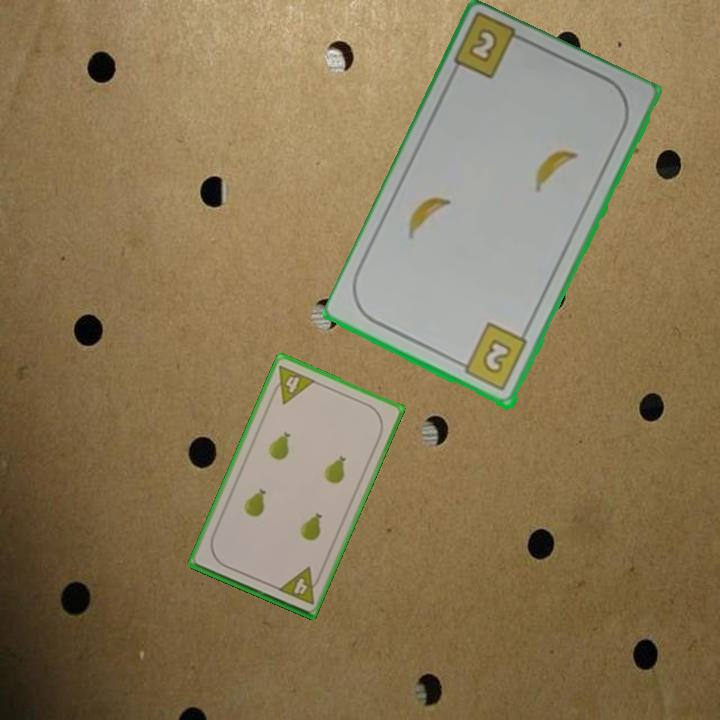2b: (453, 320, 530, 394), (465, 25, 501, 67)
4p: (267, 361, 318, 407), (274, 563, 324, 607)
